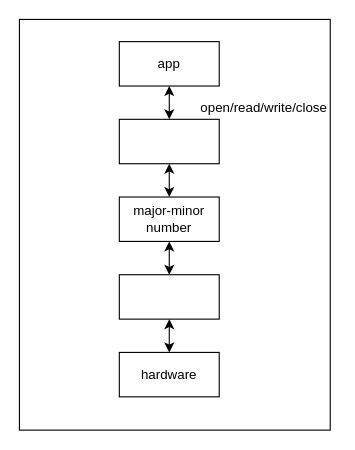
The diagram is 355 pixels wide and 450 high, and some of its shapes have lost their labels. The centre of each missing label's shape, as x and y in pixels:
device driver: (x=168, y=296)
device file device node: (x=168, y=141)
